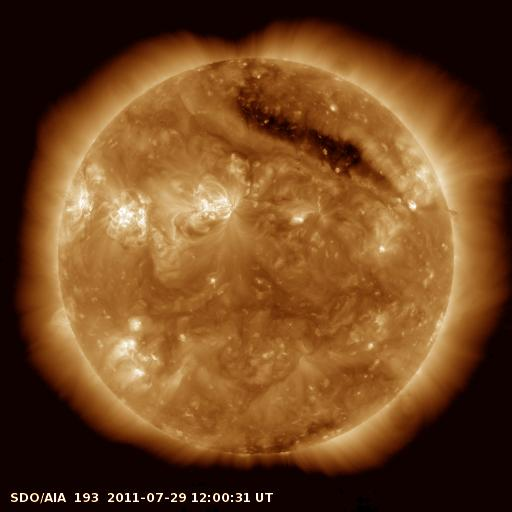coronal_hole: (236, 91, 392, 190)
